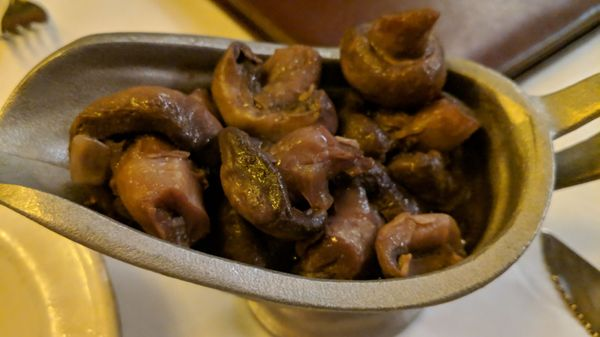pasta: (211, 41, 337, 142)
salad: (1, 177, 558, 326)
sushi: (3, 11, 552, 327)
